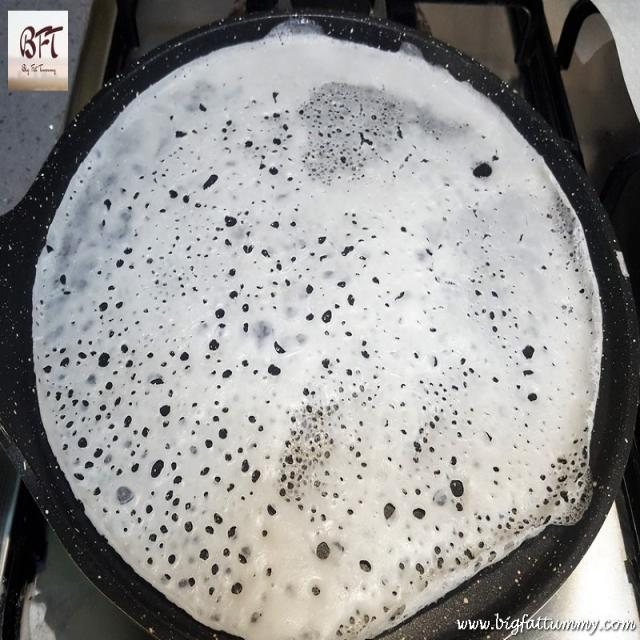DOSA: (33, 41, 606, 639)
